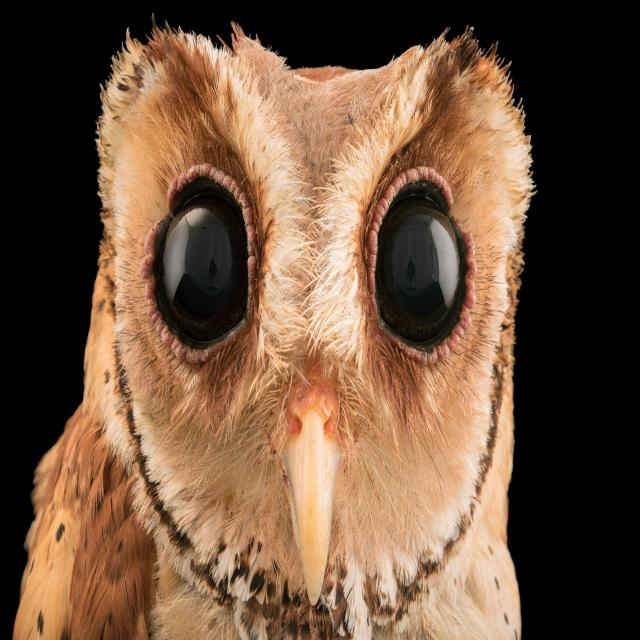Owl: (8, 19, 540, 640)
